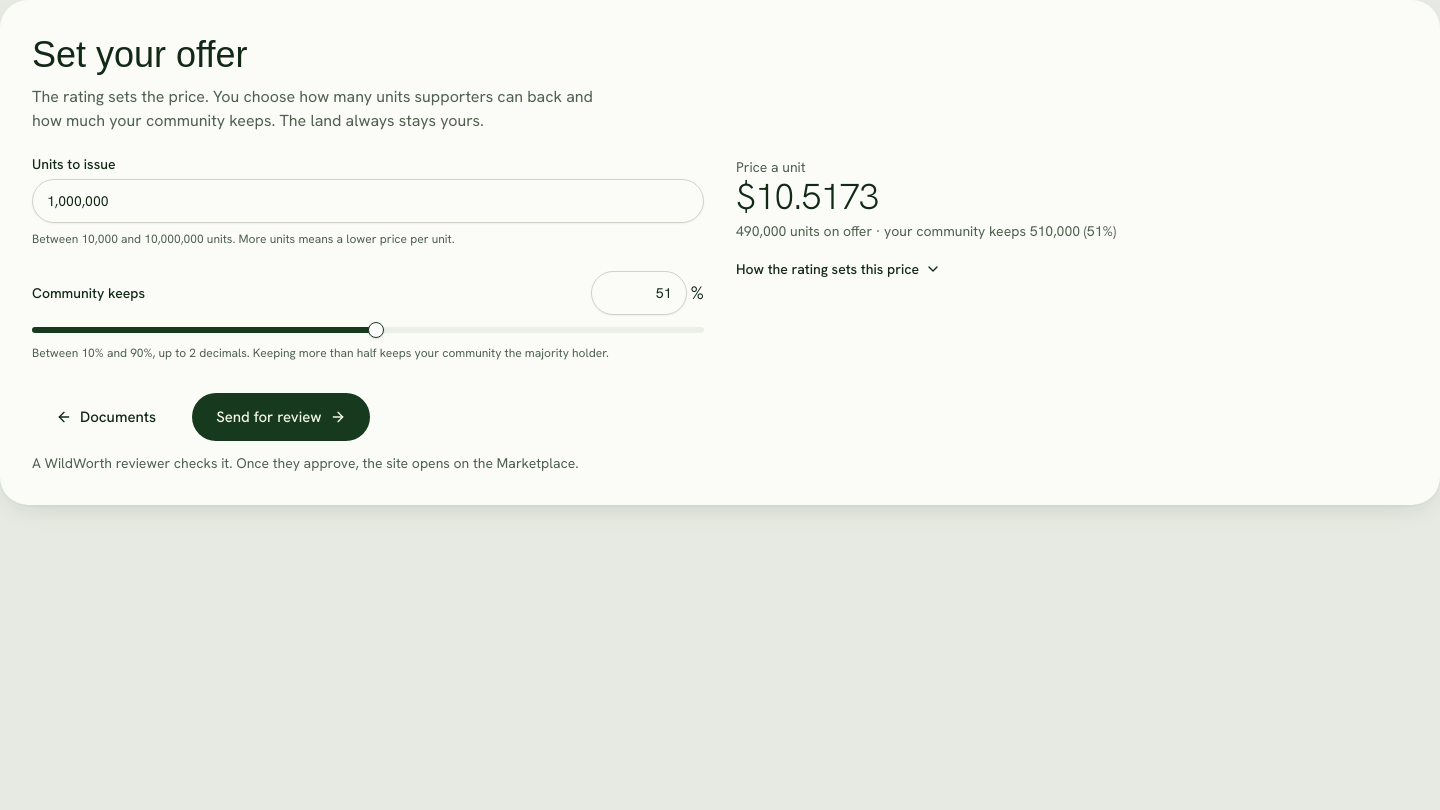
Test: the Offer step (ADR-0008 §5) › shows the new price when a newer rating moved it
The image size is (1440, 810).
Click the button "Send for review" at (281, 417), box [192,393,370,441]
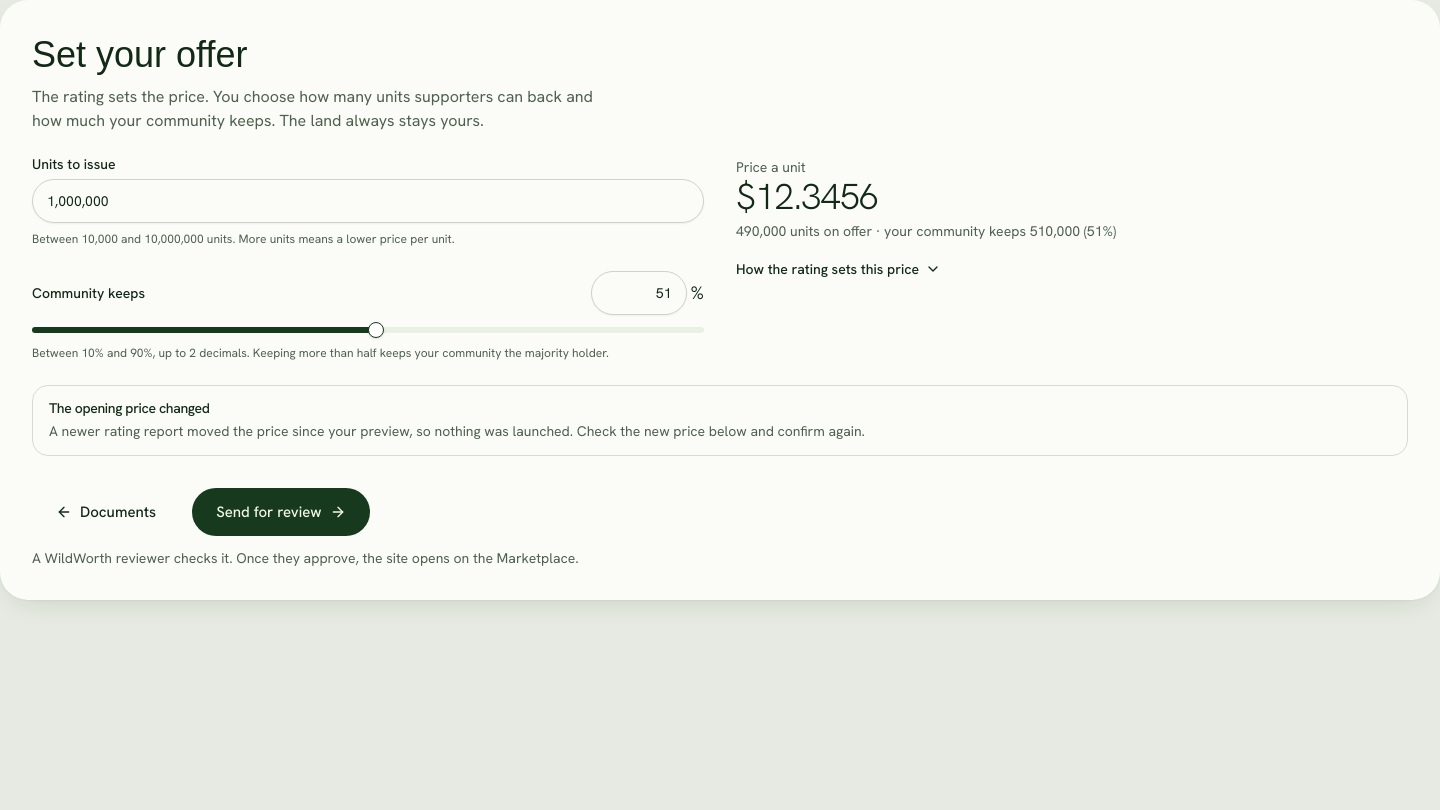
expect the text "The opening price changed" is shown: met, box [49,399,210,417]
